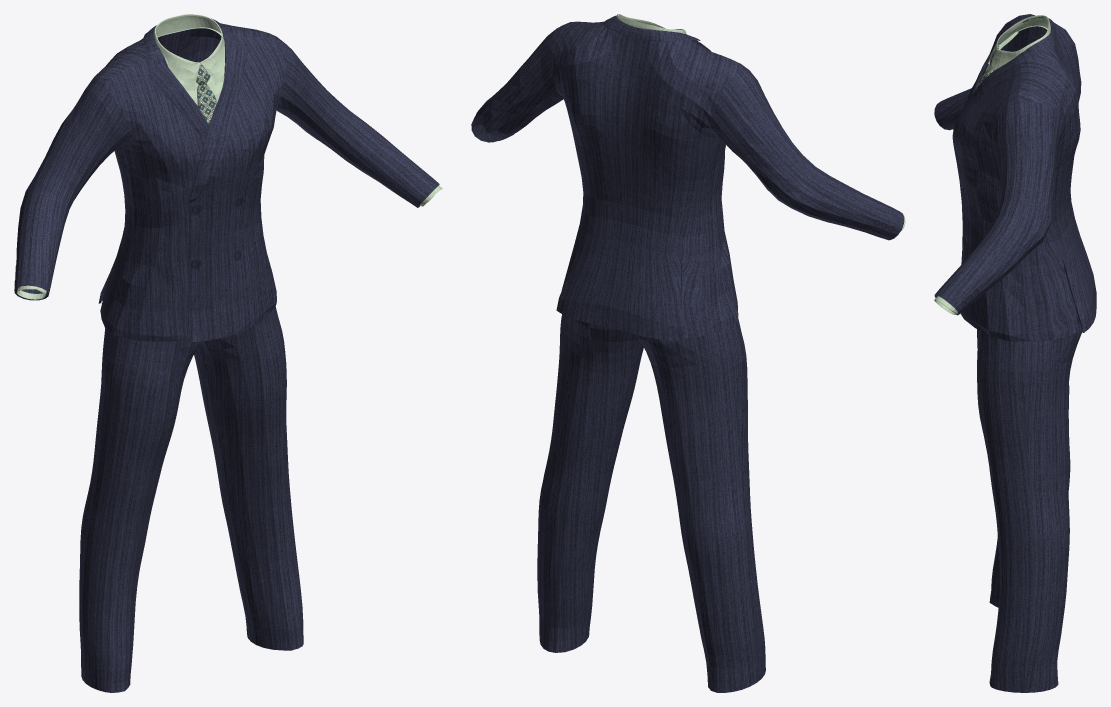
Rendered from DoubleBreastedSuit.obj.
The picture shows the model from 3 angles, left to right: view 1: azimuth 30°, elevation 25°; view 2: azimuth 150°, elevation 25°; view 3: azimuth 270°, elevation 25°; orthographic projection. The views are drawn at different scales.
Visible parts, largest first — view 1: DoubleBreastedSuit; view 2: DoubleBreastedSuit; view 3: DoubleBreastedSuit.
Part boxes in pixels (box(x1,y1,x2,y2)): DoubleBreastedSuit: box(14, 14, 442, 692); DoubleBreastedSuit: box(471, 14, 905, 692); DoubleBreastedSuit: box(934, 14, 1096, 692).
Bounding box in the file's own units: 1.02 × 1.46 × 0.3452.
1 material, 1 textured.
